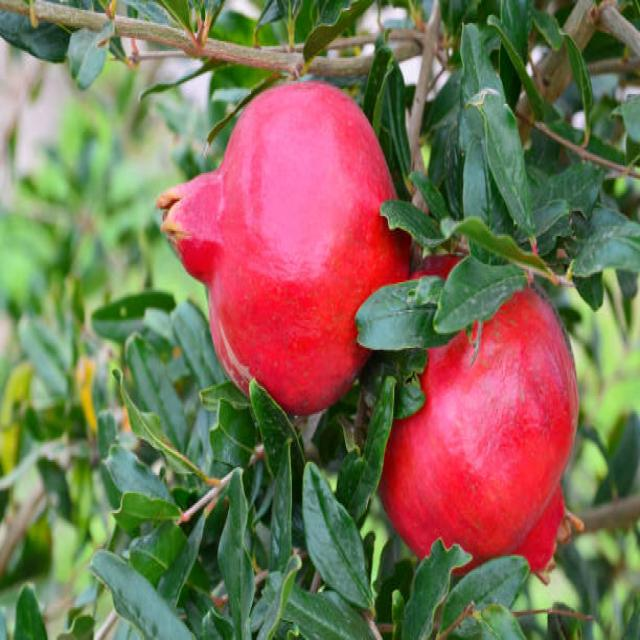Ripe: (154, 72, 415, 410), (372, 235, 587, 582)
